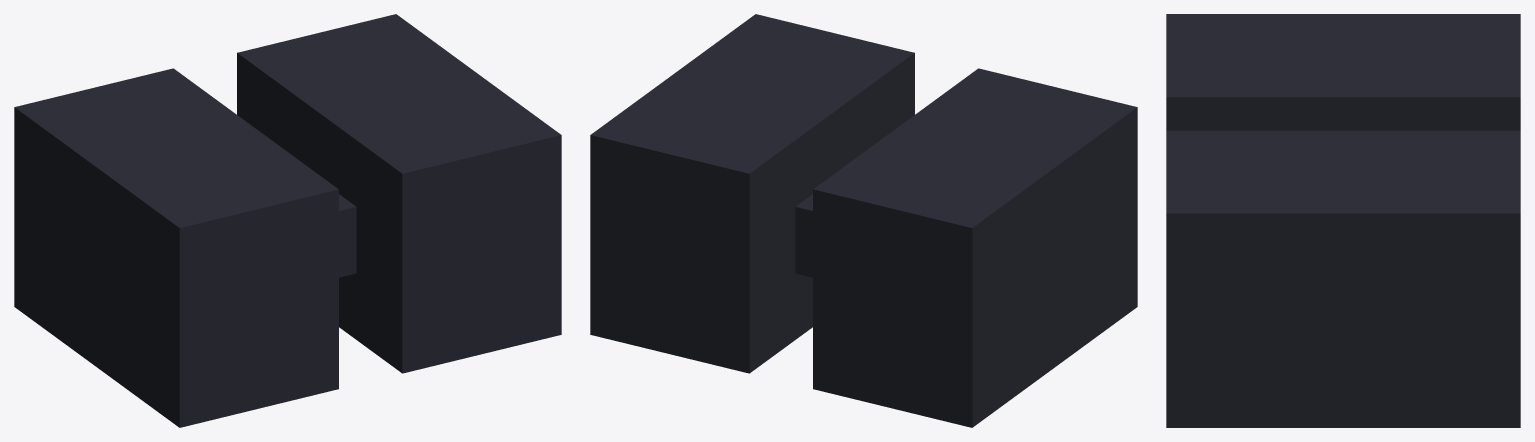
Rendered from binoculars.glb.
3 renders of one model, left to right at view 1: azimuth 30°, elevation 25°; view 2: azimuth 150°, elevation 25°; view 3: azimuth 270°, elevation 25°, orthographic. The views are drawn at different scales.
Visible parts, largest first — view 1: binoculars; view 2: binoculars; view 3: binoculars.
Boxes of the visible parts, x1=… form: binoculars: x1=14, y1=14, x2=561, y2=427; binoculars: x1=590, y1=14, x2=1137, y2=427; binoculars: x1=1166, y1=14, x2=1520, y2=427.
Size of the model in its own units: 0.12 by 0.06 by 0.09.
1 material, 1 textured.
